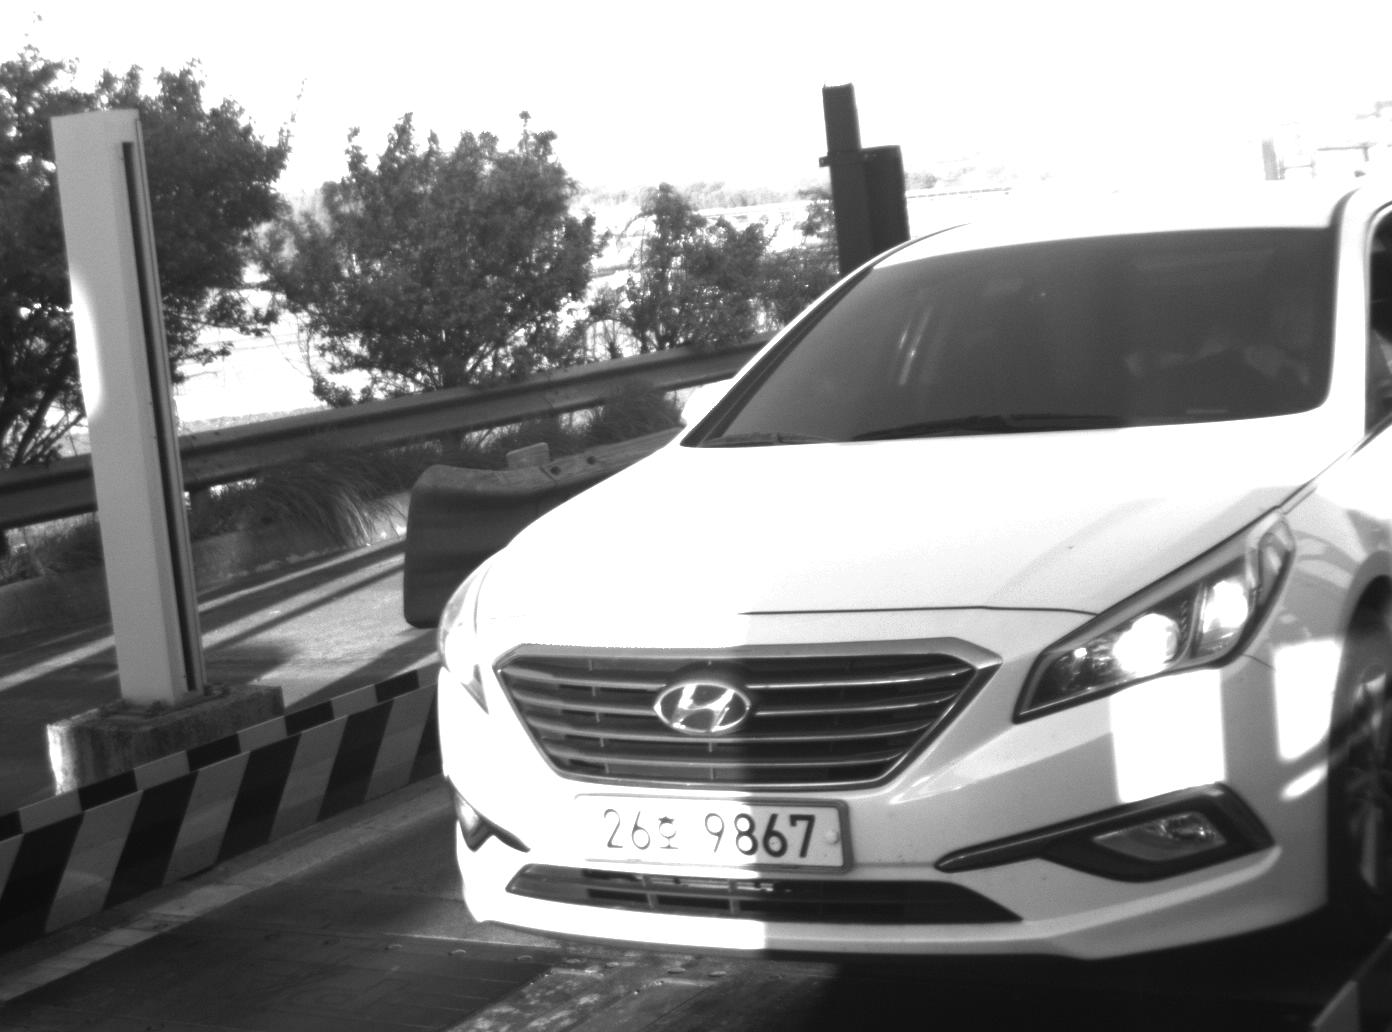car: (428, 177, 1392, 971)
plate: (561, 790, 852, 878)
